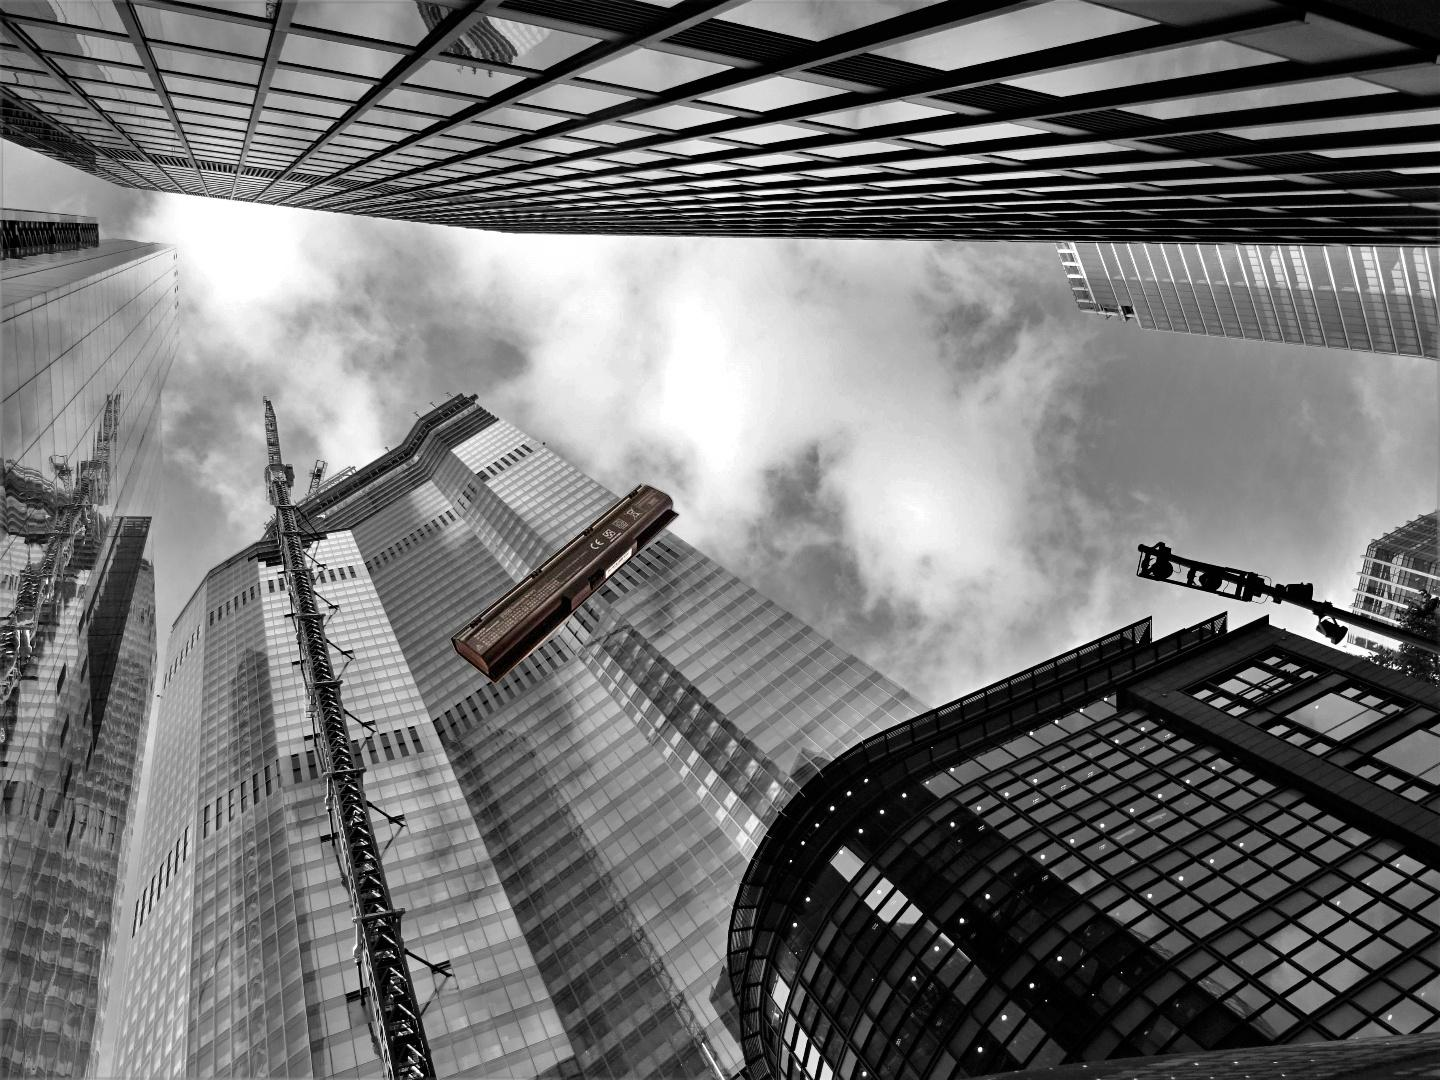battery: (444, 481, 681, 690)
